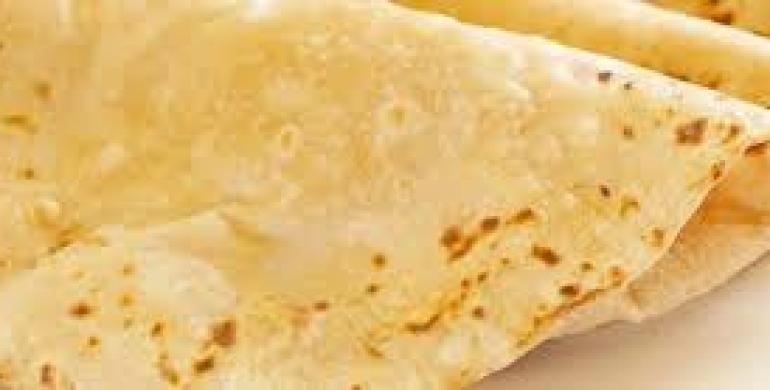roti phulka: (0, 0, 765, 357)
